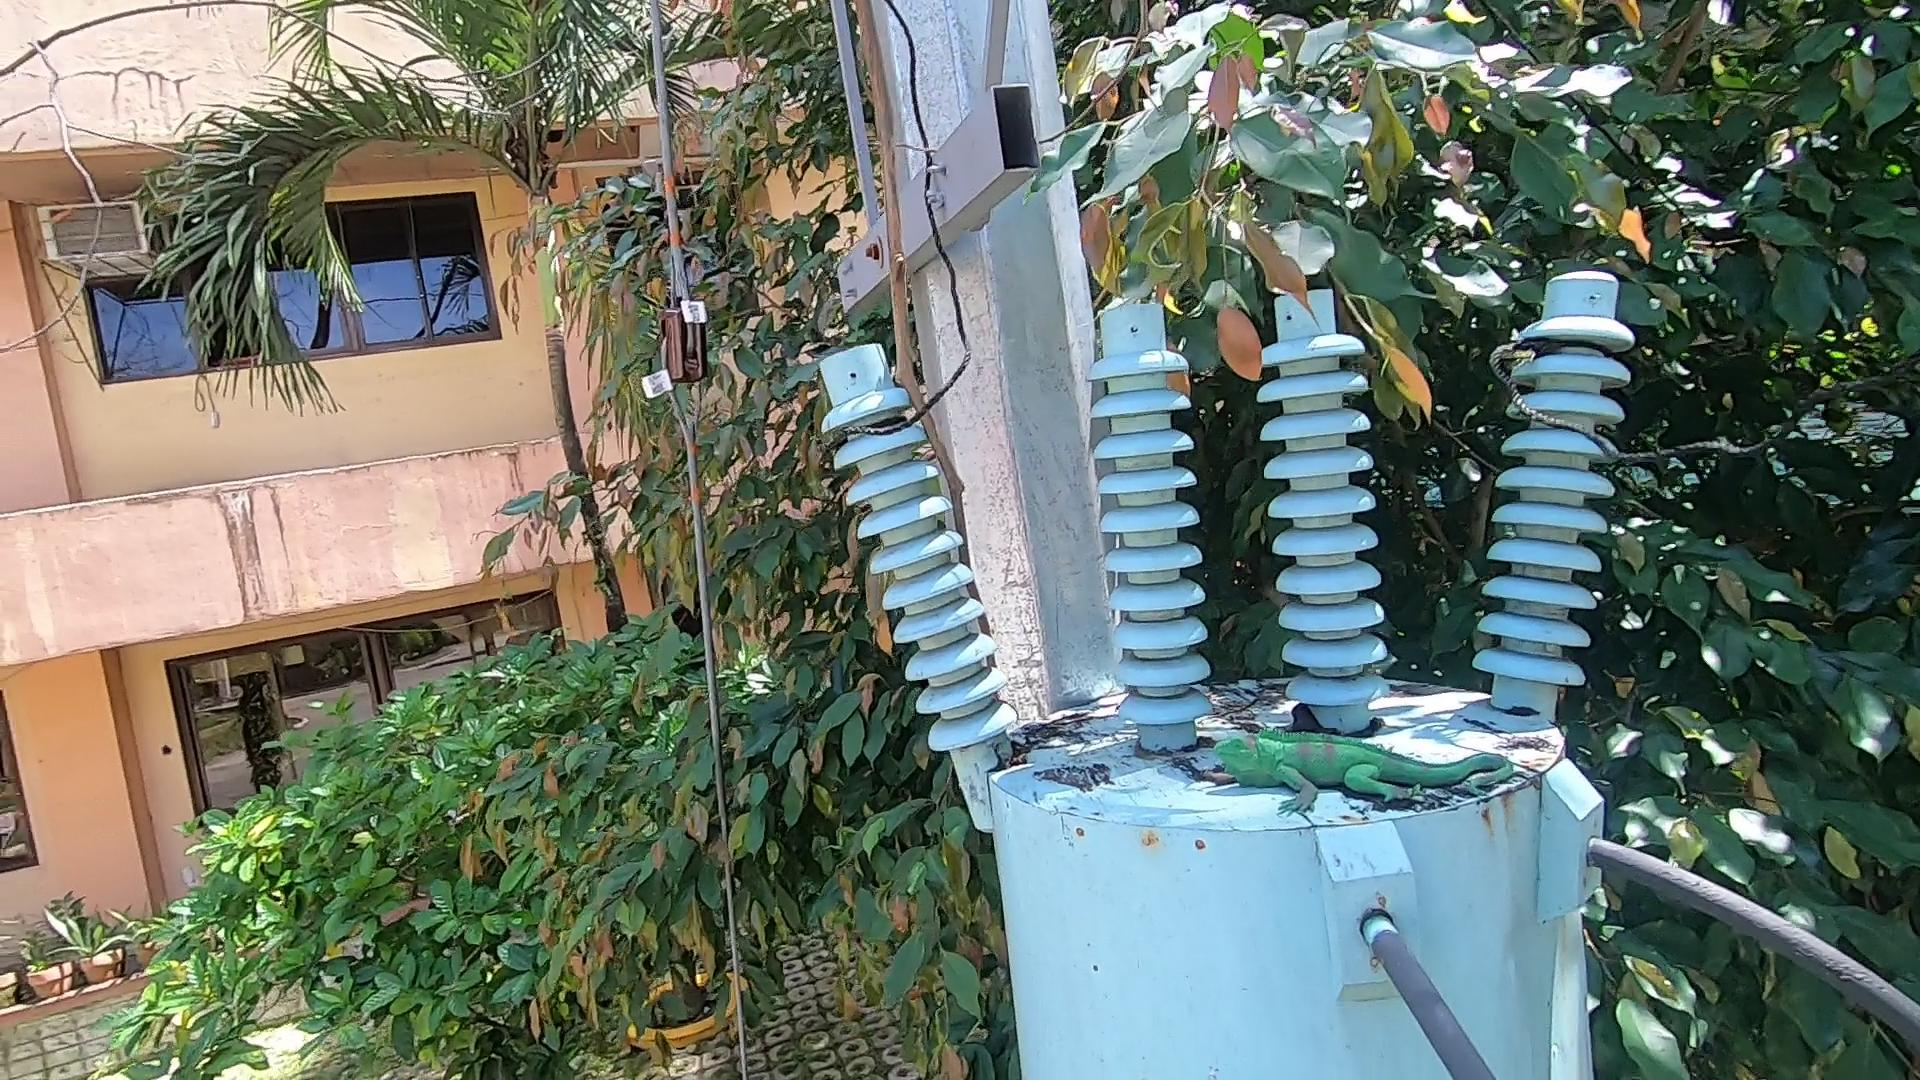branch with leaves: (1104, 214, 1466, 458)
leaf: (997, 735, 1056, 787), (1273, 707, 1338, 731)
tree branch: (824, 3, 1044, 694)
